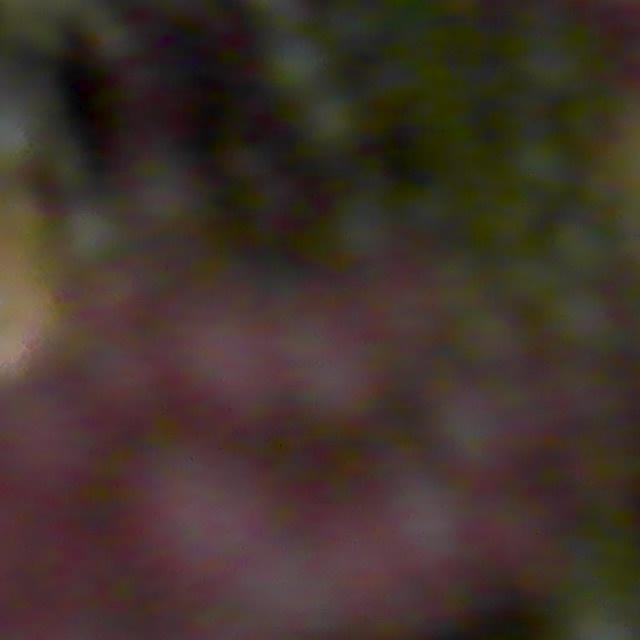SeaGrape: (549, 285, 614, 350), (61, 204, 126, 267), (265, 32, 330, 94), (300, 92, 364, 154)
